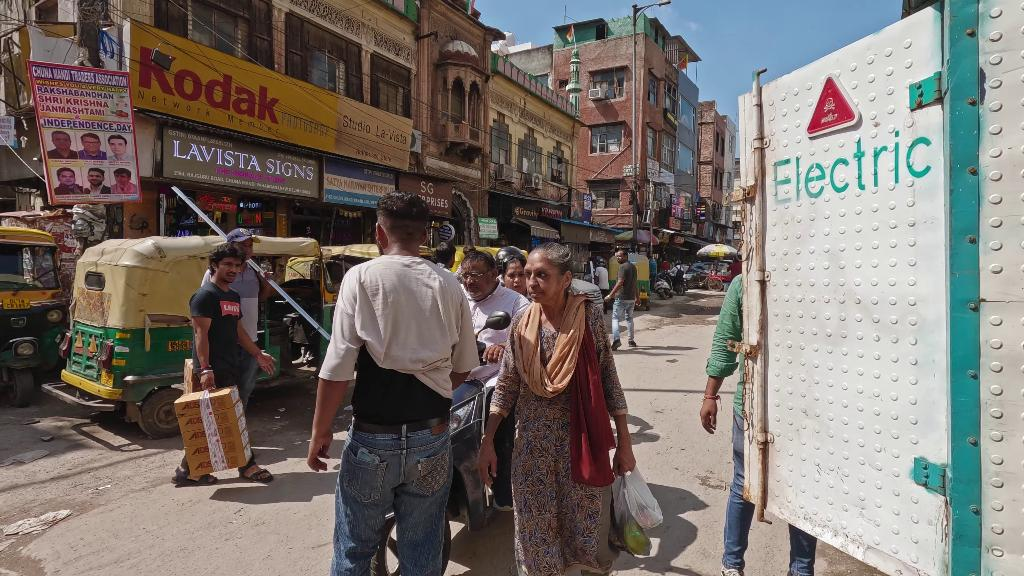garbage: (612, 478, 653, 555), (620, 467, 663, 529)
